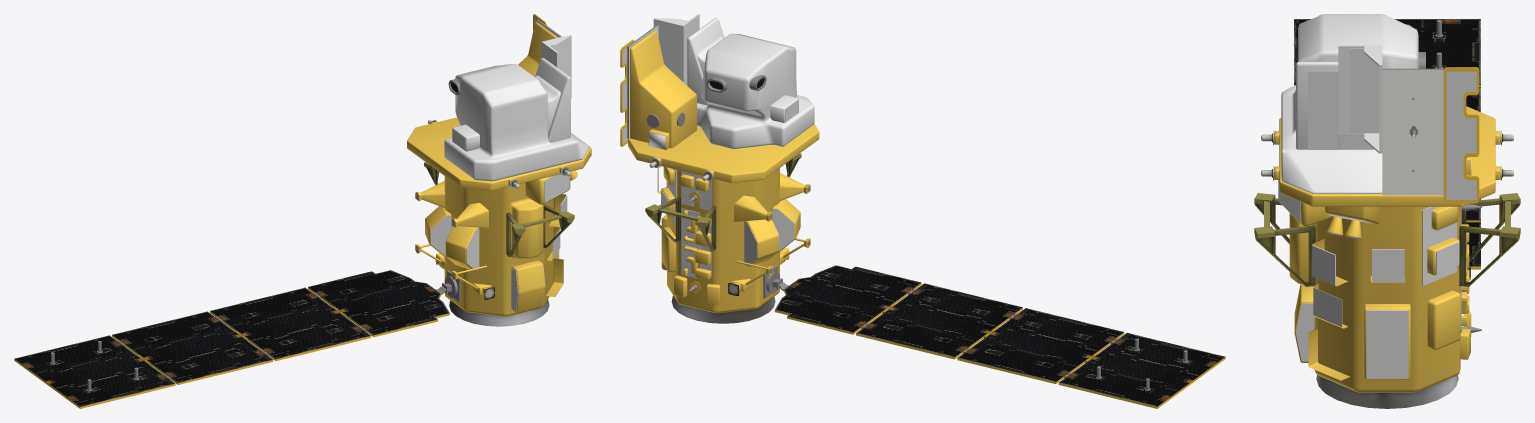
The model's file is LandSat8.glb.
3 views of the same model, side by side, from view 1: azimuth 30°, elevation 25°; view 2: azimuth 150°, elevation 25°; view 3: azimuth 270°, elevation 25° (orthographic). The views are drawn at different scales.
Parts seen in each view (by area): view 1: Instruments, BUS, white_matte, reflectors; view 2: Instruments, BUS, white_matte, reflectors, back_reflector; view 3: BUS, Instruments, reflectors, white_matte, back_reflector.
Part boxes in pixels (x1,y1,x2,y2): Instruments: [14, 19, 574, 408]; BUS: [407, 22, 591, 316]; white_matte: [444, 35, 589, 181]; reflectors: [430, 129, 569, 311]; Instruments: [627, 25, 1225, 408]; BUS: [628, 30, 819, 313]; white_matte: [653, 14, 814, 148]; reflectors: [649, 99, 798, 278]; back_reflector: [620, 39, 634, 146]; BUS: [1274, 106, 1500, 392]; Instruments: [1254, 19, 1520, 408]; reflectors: [1278, 48, 1471, 378]; white_matte: [1281, 14, 1418, 193]; back_reflector: [1443, 67, 1479, 203].
Size of the model in its own units: 10.85 by 5.02 by 3.35.
Materials: 12 (3 with a texture image).
